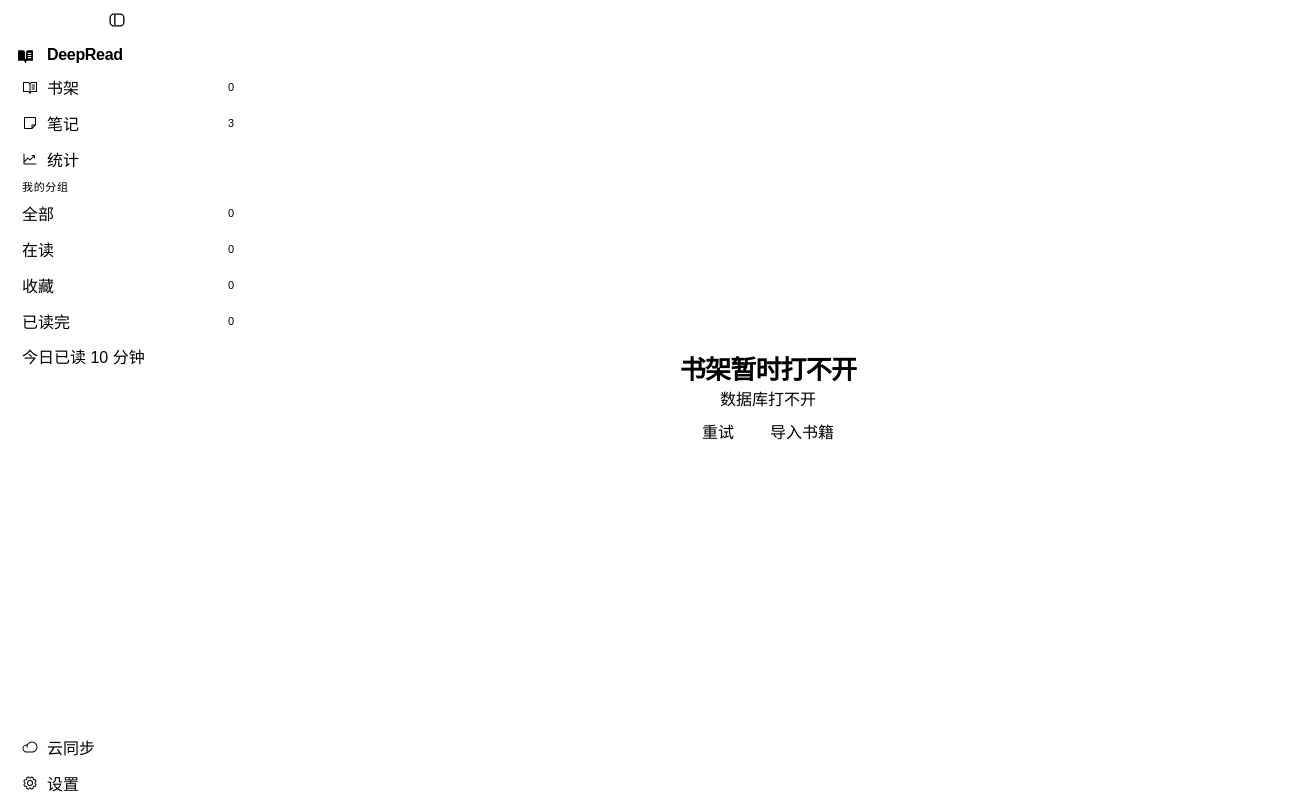
Scenario: LibraryScreen 外壳契约 › 读架失败显示错误态与重试,而不是伪装成「还没有书」
The width and height of the screenshot is (1292, 800).
Expected: the message shows "书架暂时打不开", [680,354,856,384]
Expected: the message shows "数据库打不开", [720,390,816,408]
Click the button "重试" at (718, 430), box [684,410,752,452]
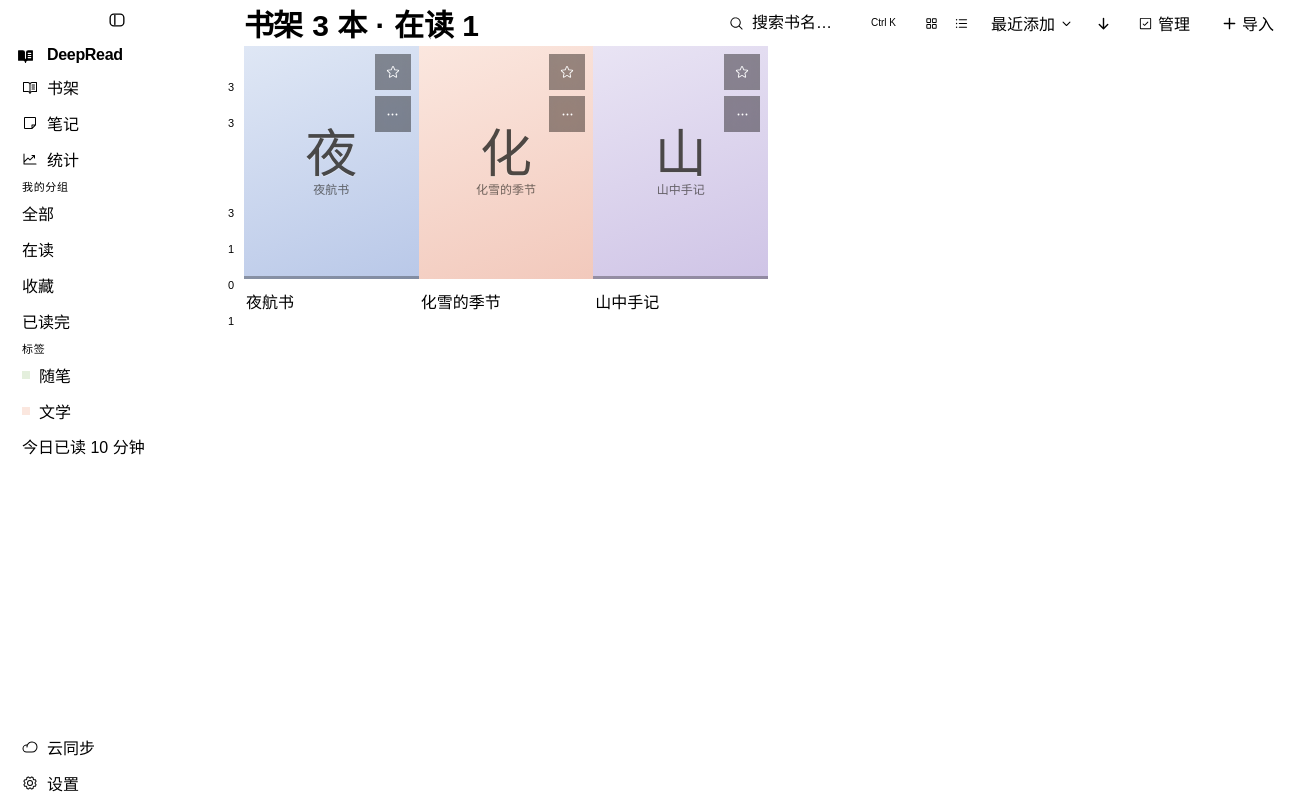
Now the element with class "shelf-toolbar" is shown, box [244,0,1291,46]
Now the message "书架暂时打不开 数据库打不开 重试 导入书籍" is gone
